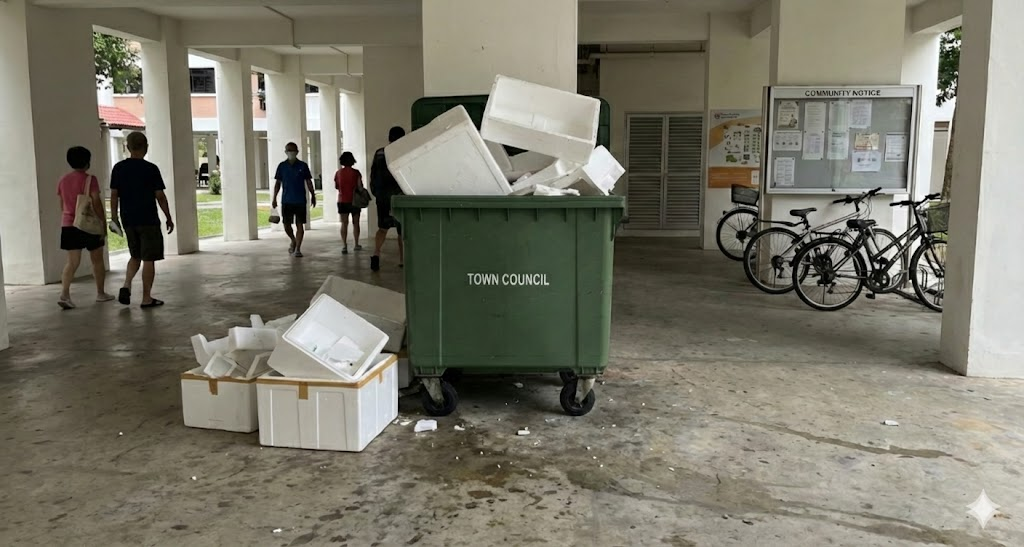bin_full: (385, 75, 624, 415)
bulk_waste: (256, 354, 397, 451), (269, 293, 388, 379), (180, 326, 277, 431), (481, 75, 599, 160), (311, 275, 406, 352)
vehicle: (795, 194, 947, 310), (743, 188, 880, 294), (715, 184, 758, 259)
